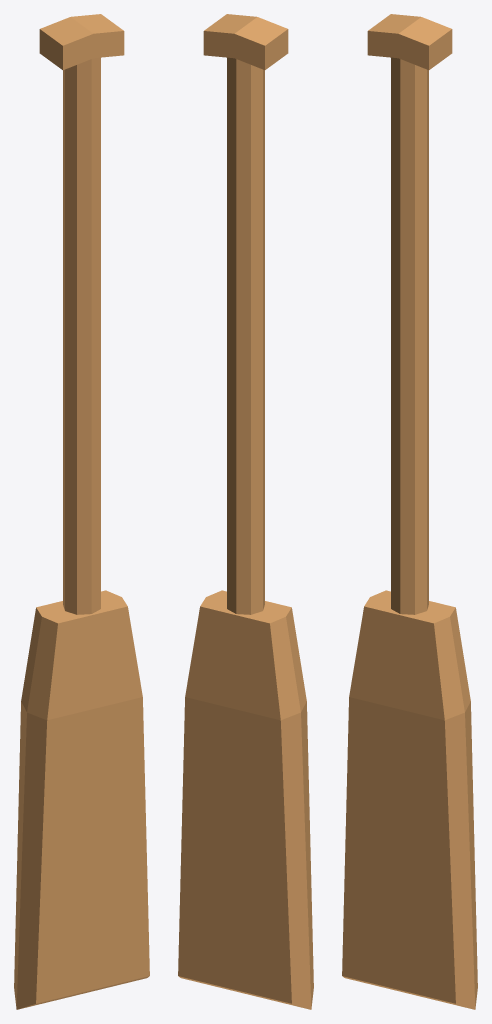
The model's file is Oar.fbx.
The picture shows the model from 3 angles, left to right: view 1: azimuth 30°, elevation 25°; view 2: azimuth 150°, elevation 25°; view 3: azimuth 330°, elevation 25°; orthographic projection.
Visible parts, largest first — view 1: Remo; view 2: Remo; view 3: Remo.
Boxes of the visible parts, x1,y1,x2,y2 form: Remo: (14, 14, 149, 1009); Remo: (178, 14, 313, 1009); Remo: (342, 14, 477, 1009).
Size of the model in its own units: 36.94 by 261 by 12.76.
